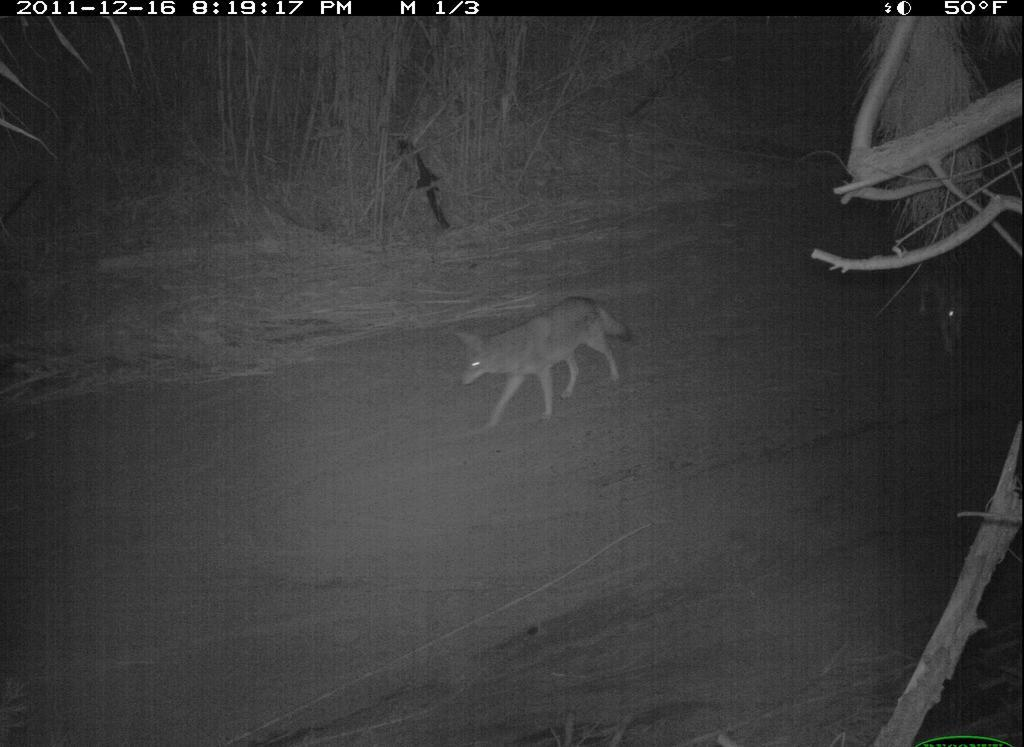coyote: (442, 287, 641, 436)
